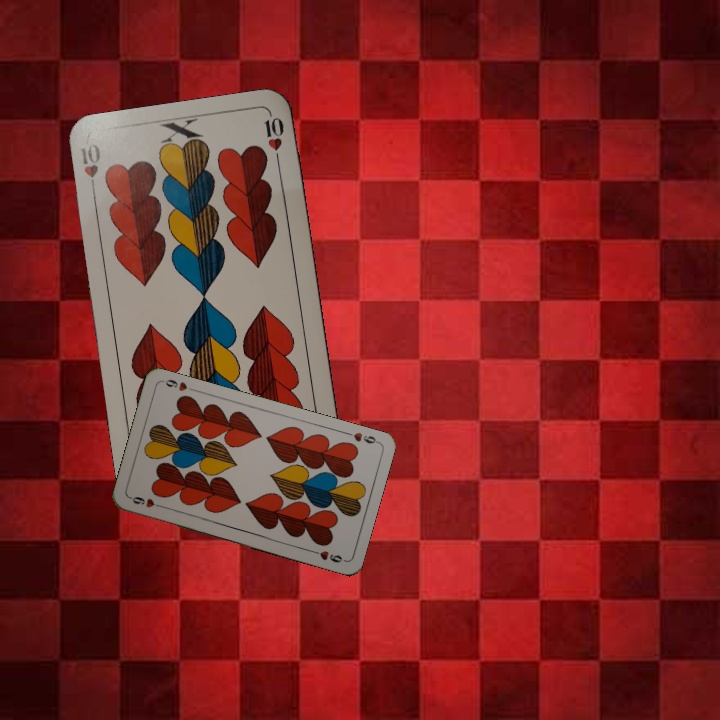H10: (76, 140, 103, 199)
H9: (126, 492, 166, 511), (341, 427, 381, 446)
